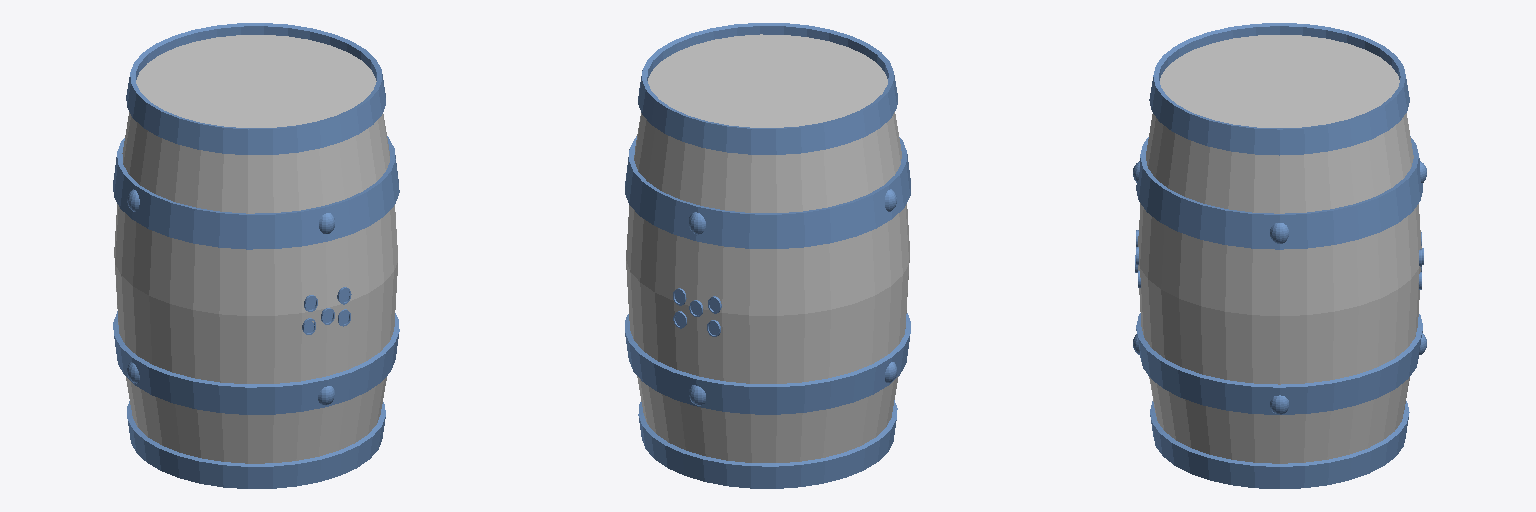
Rendered from Barril.obj.
3 views of the same model, side by side, from view 1: azimuth 30°, elevation 25°; view 2: azimuth 150°, elevation 25°; view 3: azimuth 270°, elevation 25° (orthographic).
Parts seen in each view (by area): view 1: Cilindro; view 2: Cilindro; view 3: Cilindro.
Part boxes in pixels (bbox=[...]): Cilindro: bbox=[113, 23, 399, 488]; Cilindro: bbox=[625, 23, 910, 488]; Cilindro: bbox=[1133, 23, 1426, 488].
Bounding box in the file's own units: 2.44 × 3.28 × 2.43.